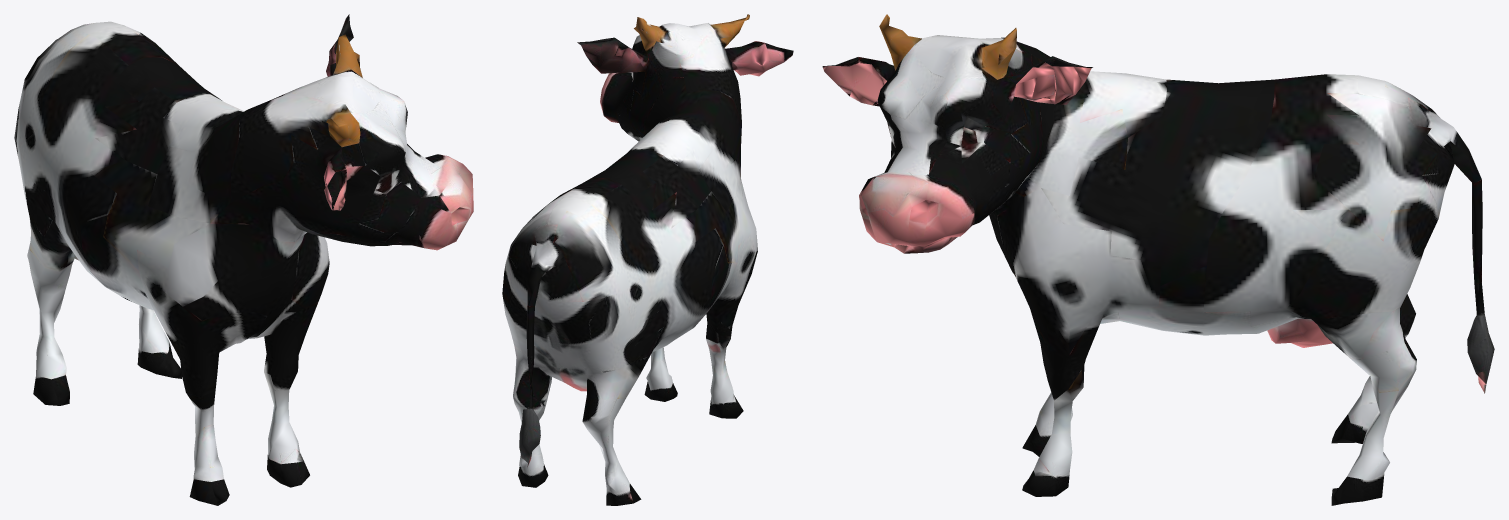
File: cow.glb
The picture shows the model from 3 angles, left to right: view 1: azimuth 30°, elevation 25°; view 2: azimuth 150°, elevation 25°; view 3: azimuth 270°, elevation 25°; orthographic projection. The views are drawn at different scales.
Bounding box in the file's own units: 0.457 × 0.7586 × 0.9507.
1 material, 1 textured.
